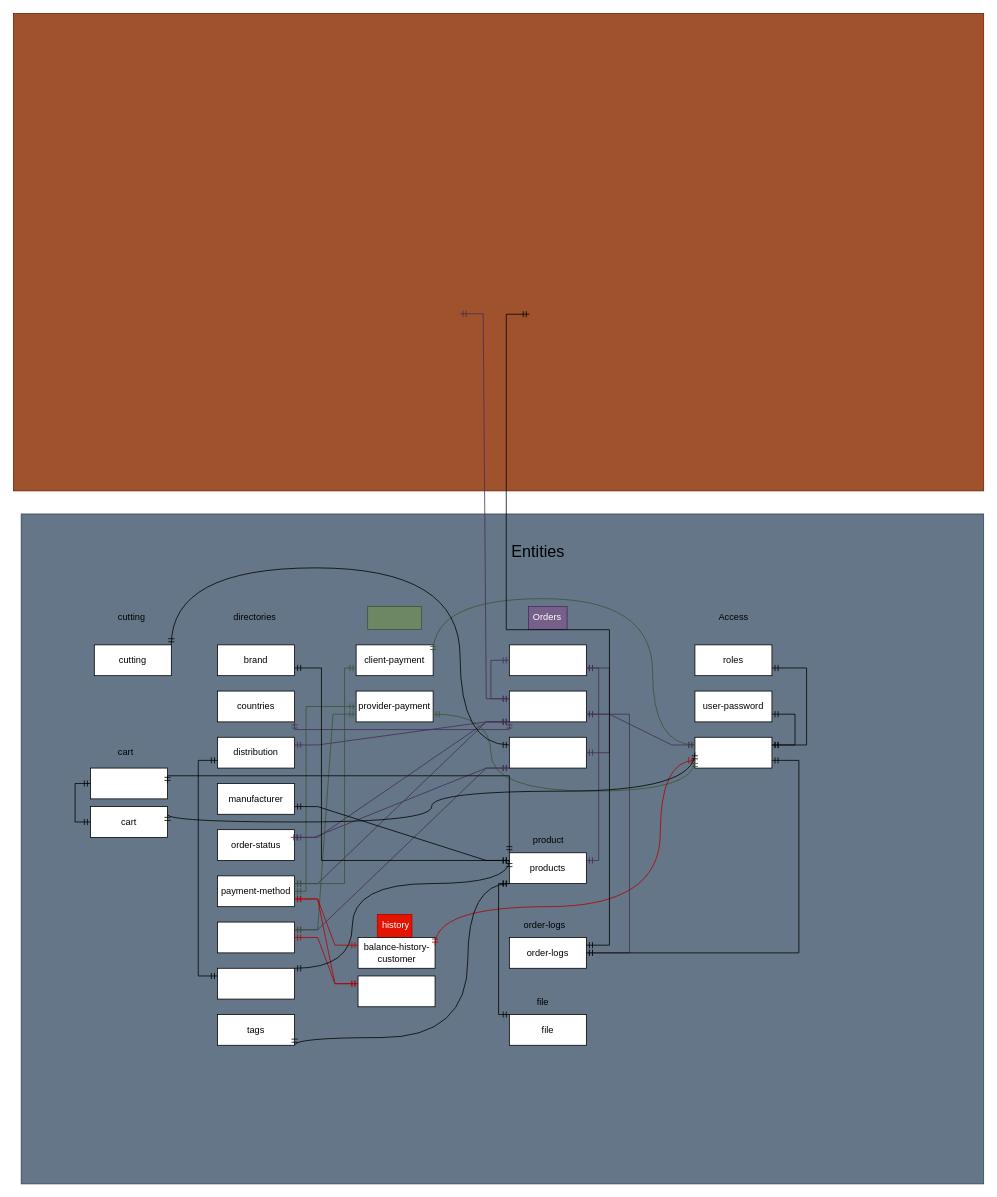
The diagram is 997 pixels wide and 1197 high, and some of its shapes have lost their labels. The shapes that lost their labels are listed below. From the top down, each one's centre as x and y in pixels, then its label:
the point at 394,617: payments
the point at 547,660: customer-order-products
the point at 547,706: customer-orders
the point at 547,752: provider-orders
the point at 733,752: user
the point at 128,783: cart-products
the point at 256,937: provider
the point at 256,983: stock
the point at 396,991: balance-history-provider
